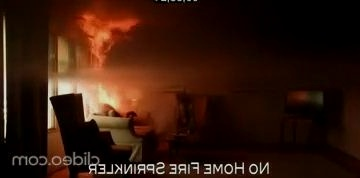fire: (73, 1, 148, 127)
